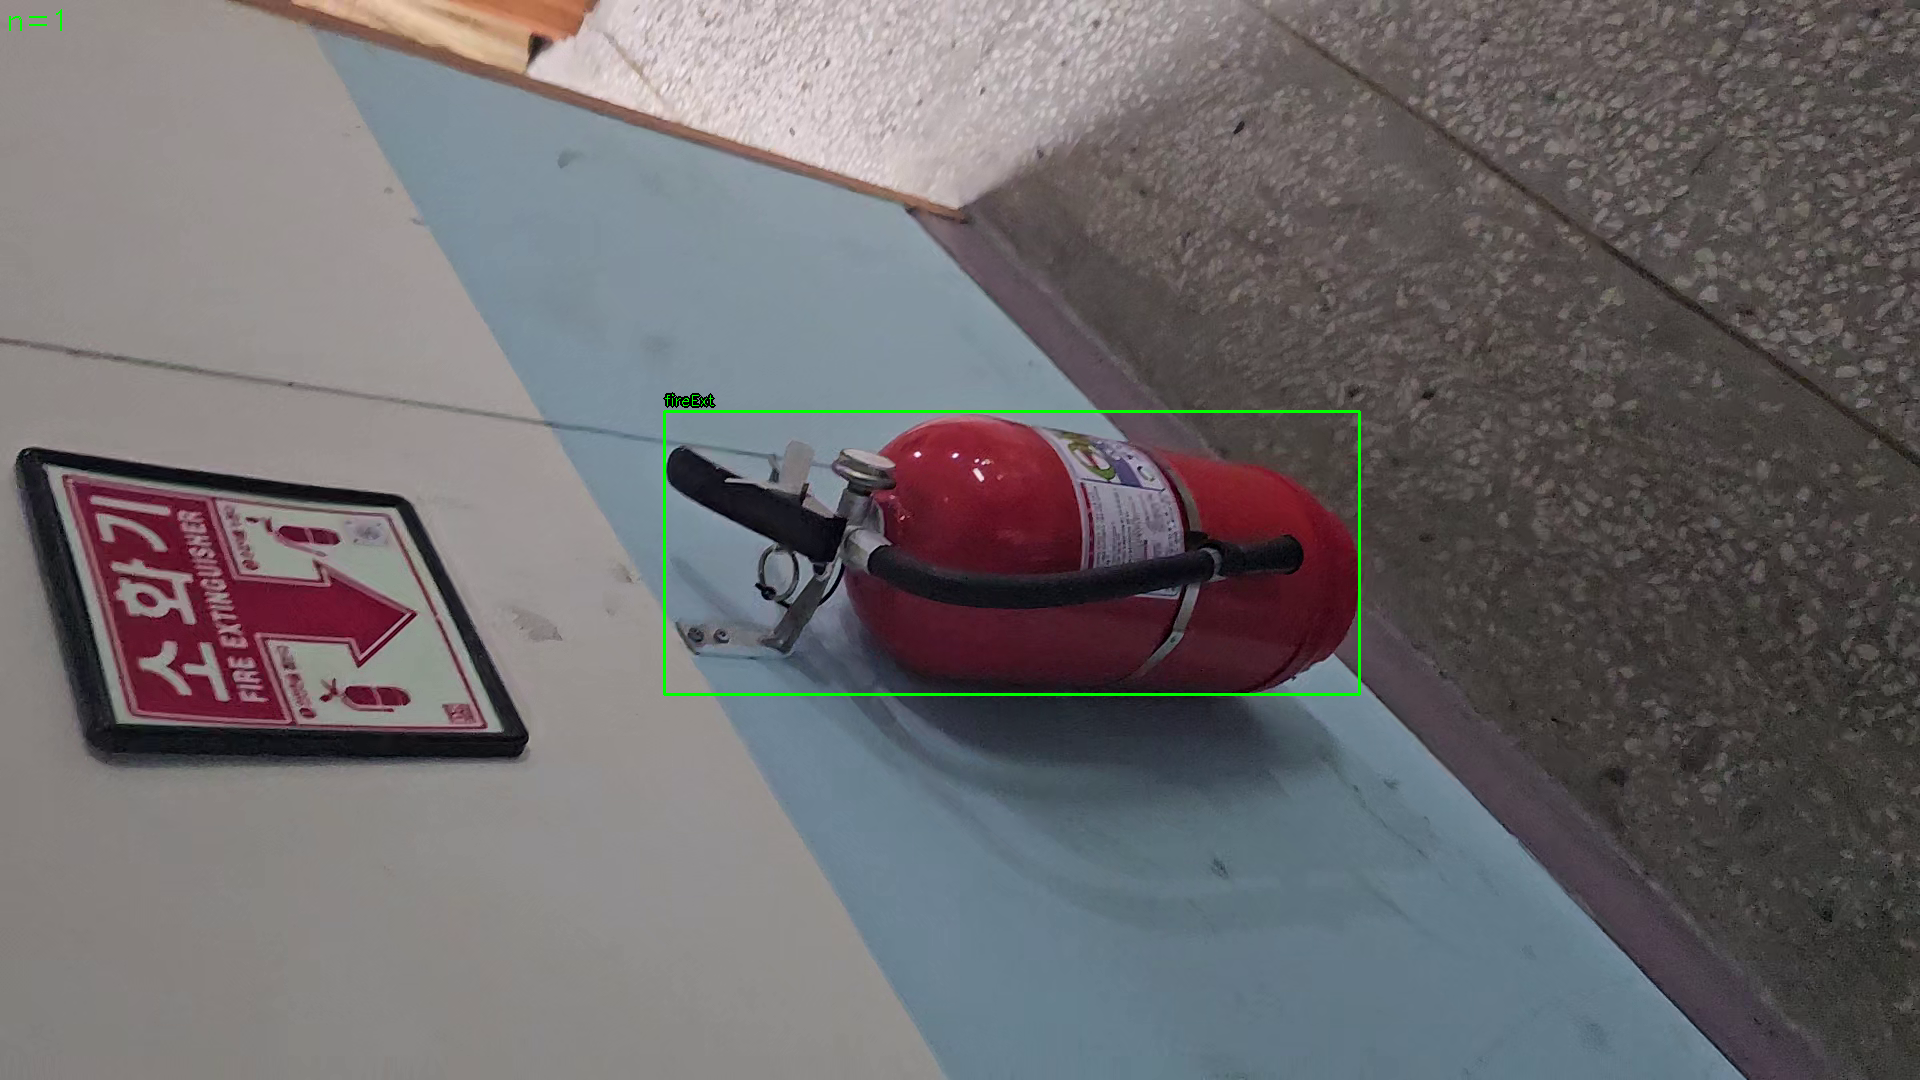lane: (665, 411, 1360, 695)
